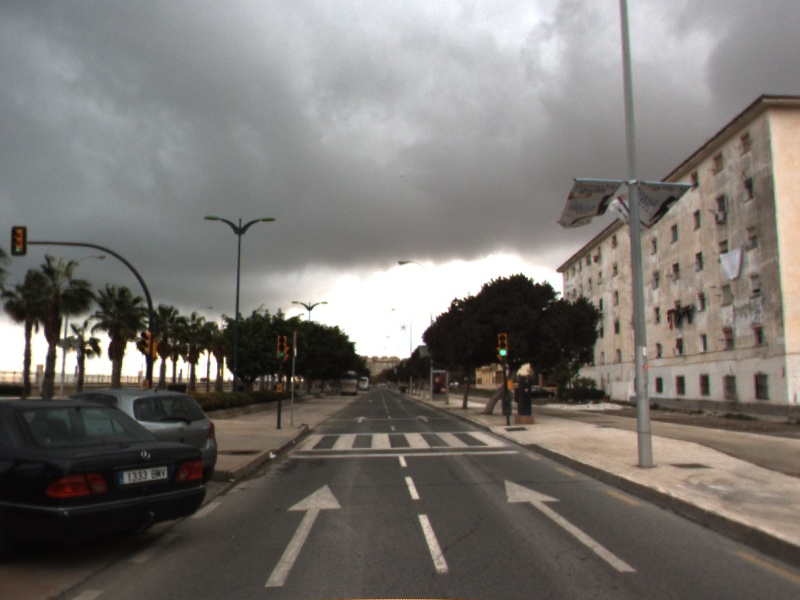STRAIGHT: (502, 477, 641, 575), (263, 481, 345, 590), (412, 413, 435, 424), (351, 414, 371, 425)
